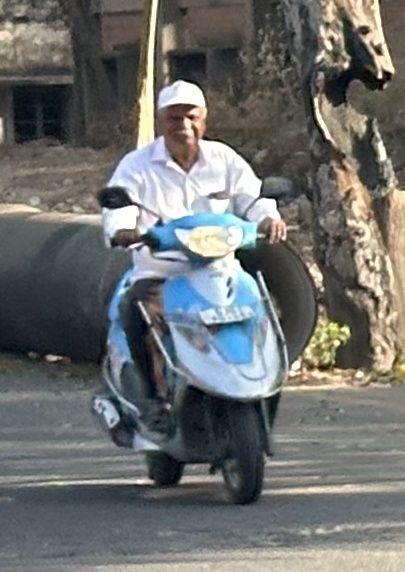Helmet: (146, 74, 219, 155)
NoHelmet: (80, 72, 325, 508)
